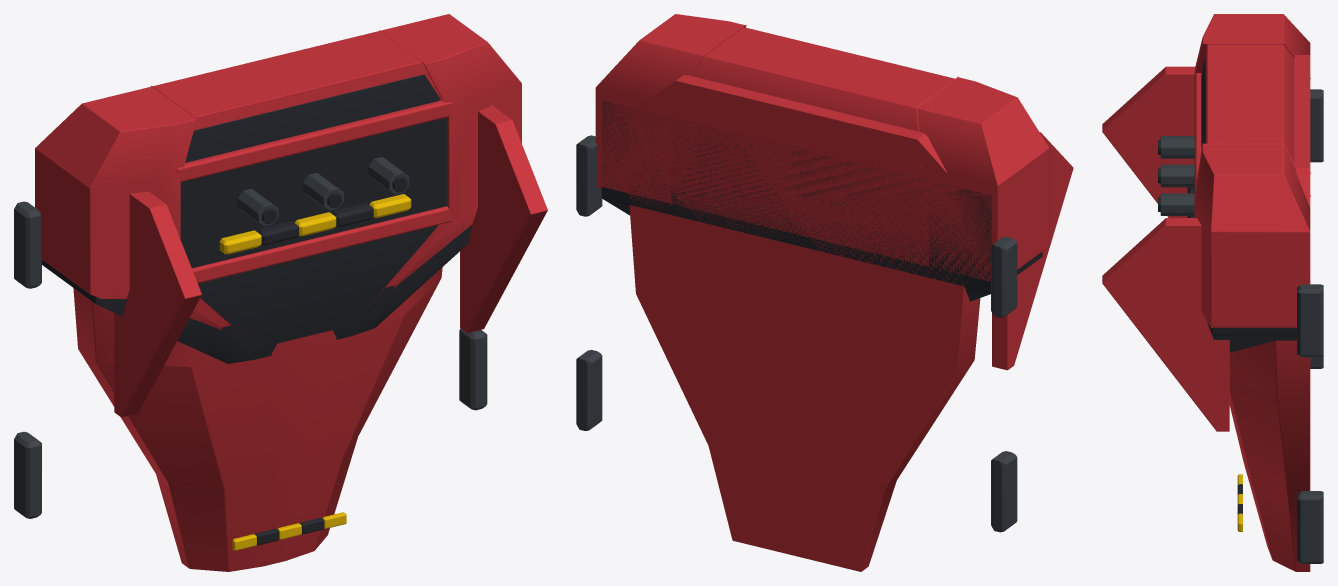
File: BodyBack_Set07_Salvo.fbx
The picture shows the model from 3 angles, left to right: view 1: azimuth 30°, elevation 25°; view 2: azimuth 150°, elevation 25°; view 3: azimuth 270°, elevation 25°; orthographic projection. The views are drawn at different scales.
Parts seen in each view (by area): view 1: BodyBack_Set07_Salvo; view 2: BodyBack_Set07_Salvo; view 3: BodyBack_Set07_Salvo.
Part boxes in pixels (x1=…): BodyBack_Set07_Salvo: x1=14, y1=14, x2=547, y2=571; BodyBack_Set07_Salvo: x1=576, y1=14, x2=1073, y2=571; BodyBack_Set07_Salvo: x1=1102, y1=14, x2=1323, y2=571.
Size of the model in its own units: 1.07 by 1.1 by 0.4945.
